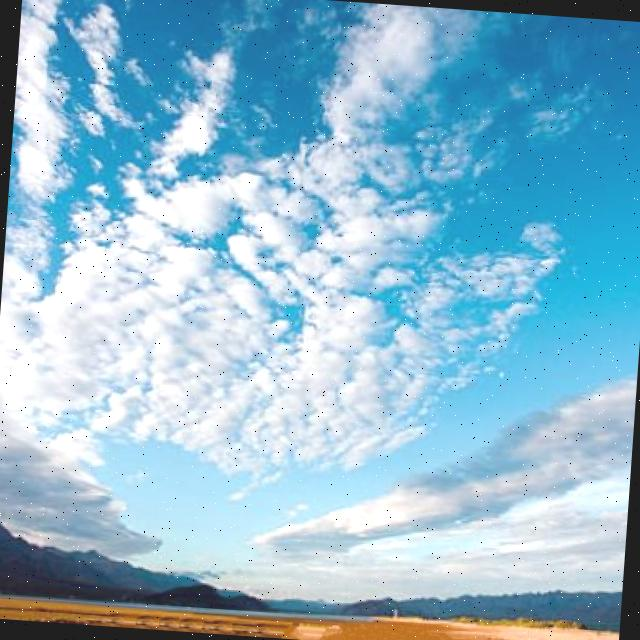Cc: (1, 1, 640, 416)
